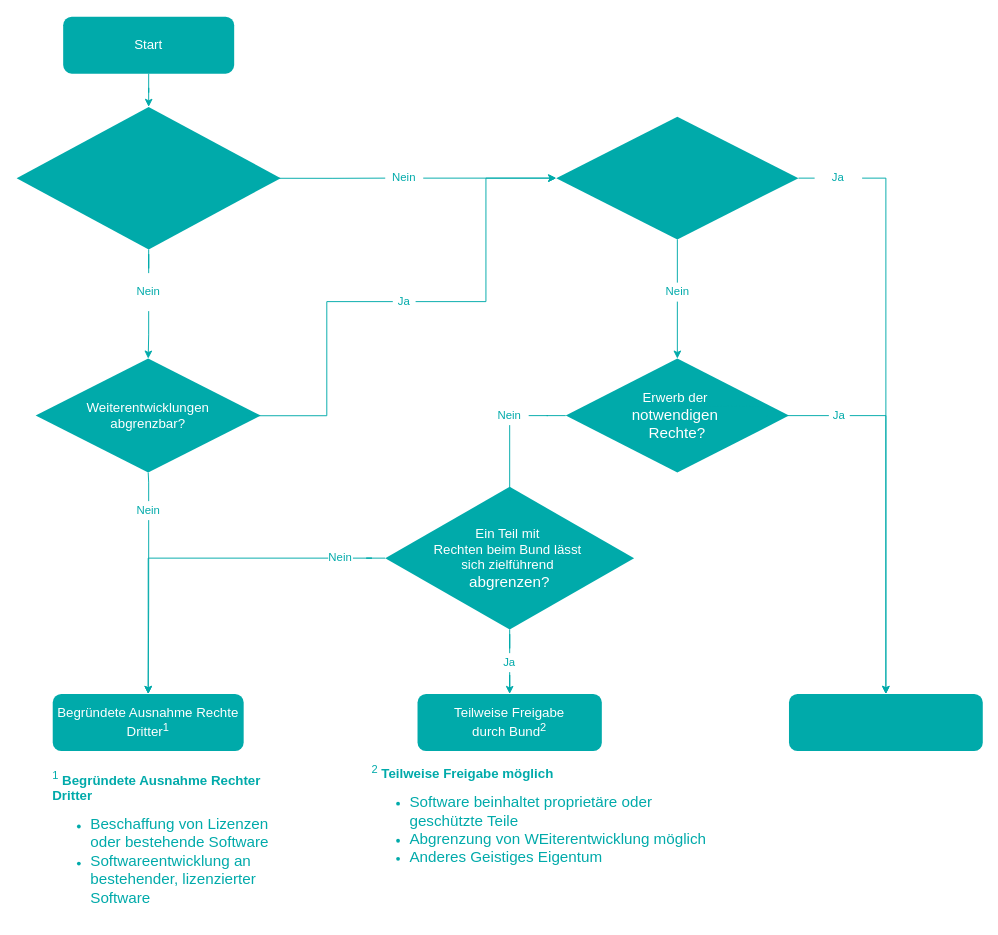
This 998x935 diagram has some shape labels left out. The centre of each missing label's shape, as x and y in pixels:
Freigabe durch Bund: the point at 885,722
Kauf von Lizenz oder bestehender Lösung als zentraler Beschaffungsgegenstand?: the point at 148,177
Rechte gehören dem Bund?: the point at 677,177
